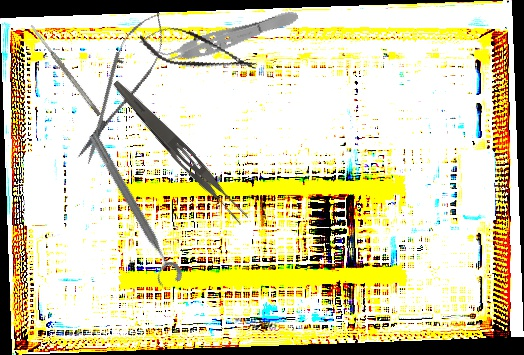Dressing Forceps: (105, 76, 253, 229)
Fixation Ring: (76, 130, 186, 291)
Micro Scissor: (64, 3, 178, 171), (135, 19, 261, 84)
Spatula Surgical: (29, 23, 102, 117)
Tissue Forceps: (148, 3, 302, 72)
